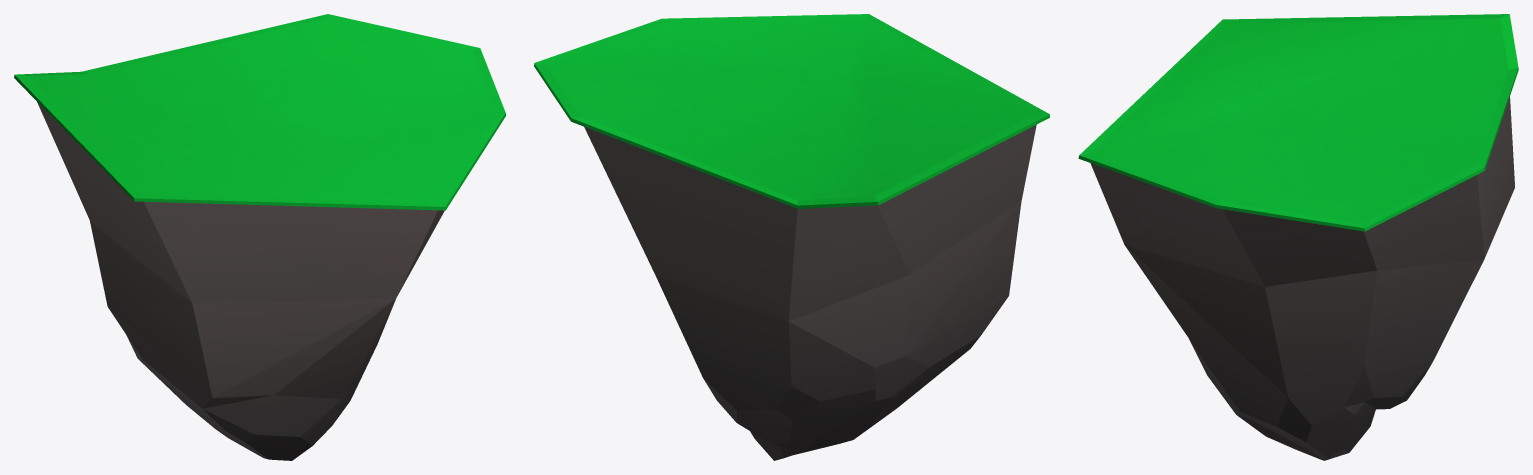
The model's file is Island_2.fbx.
3 renders of one model, left to right at view 1: azimuth 30°, elevation 25°; view 2: azimuth 150°, elevation 25°; view 3: azimuth 270°, elevation 25°, orthographic. The views are drawn at different scales.
Parts seen in each view (by area): view 1: Island_2; view 2: Island_2; view 3: Island_2.
Part boxes in pixels (x1,y1,x2,y2): Island_2: (14,14,505,460); Island_2: (534,14,1049,460); Island_2: (1078,14,1518,460).
Bounding box in the file's own units: 8.51 × 6.87 × 7.66.
